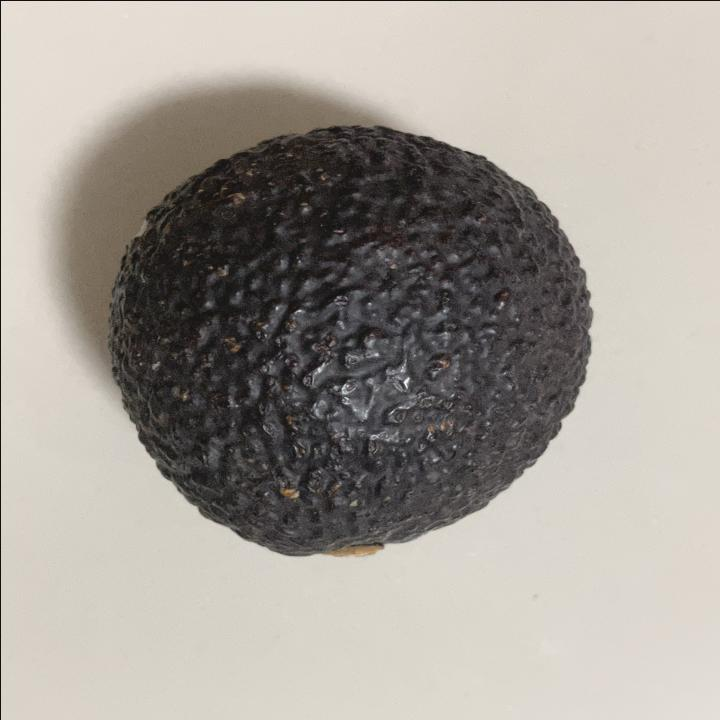Level3: (95, 115, 609, 570)
